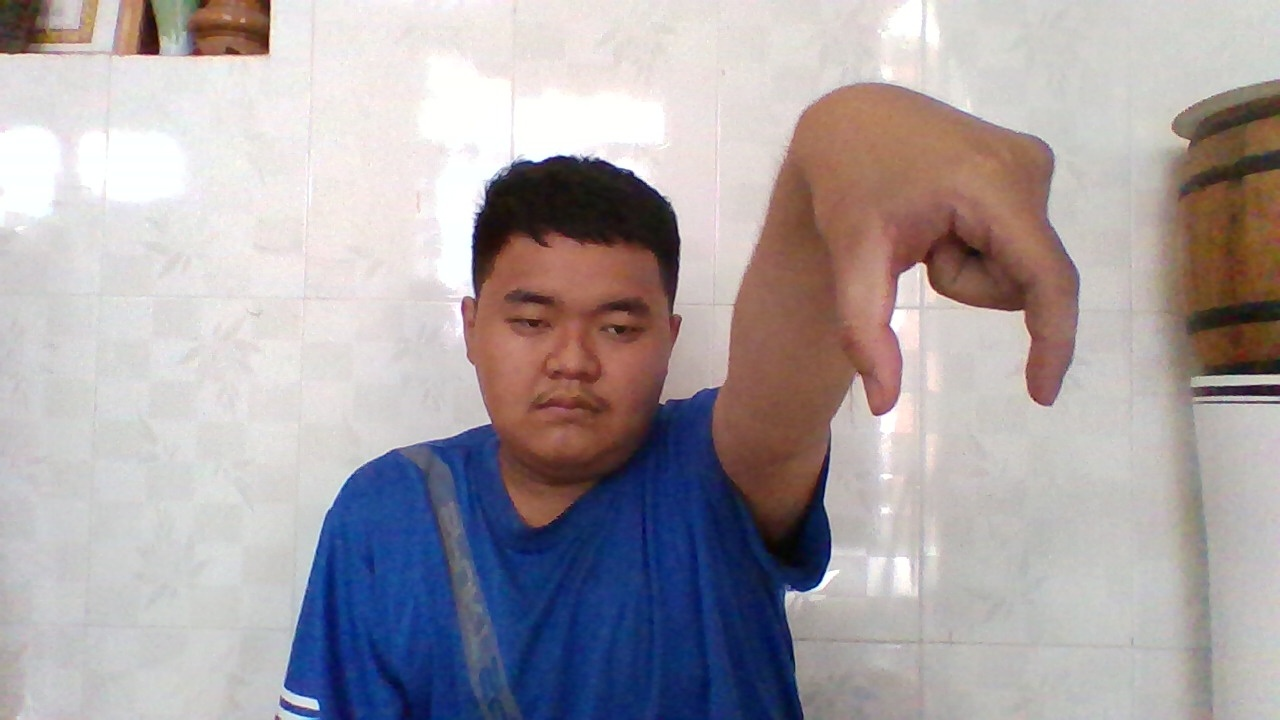Q: (818, 98, 1072, 427)
